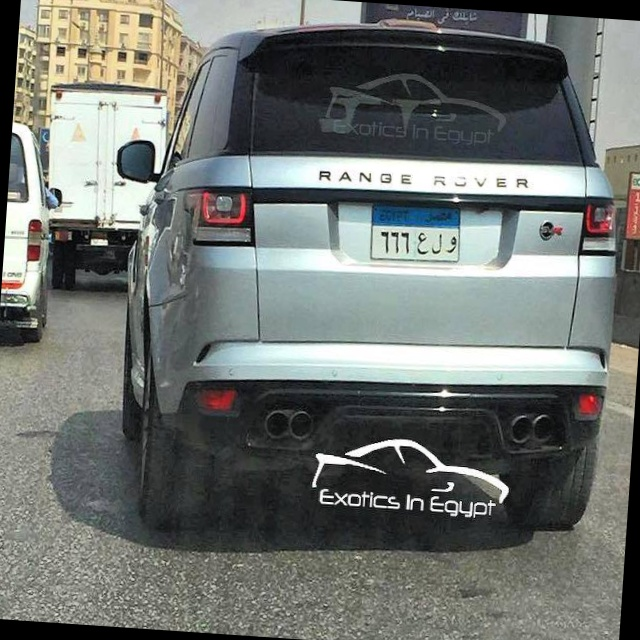License Plate: (367, 198, 466, 267)
